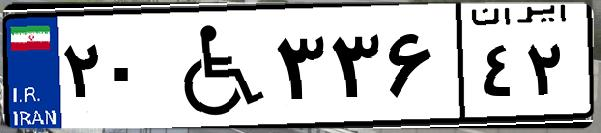0: (110, 28, 158, 98)
2: (57, 26, 110, 100), (525, 38, 570, 115)
3: (270, 28, 330, 110), (330, 28, 385, 110)
4: (475, 38, 525, 113)
6: (385, 28, 445, 110)
ژ (معلولین و جانبازان): (158, 12, 270, 120)
